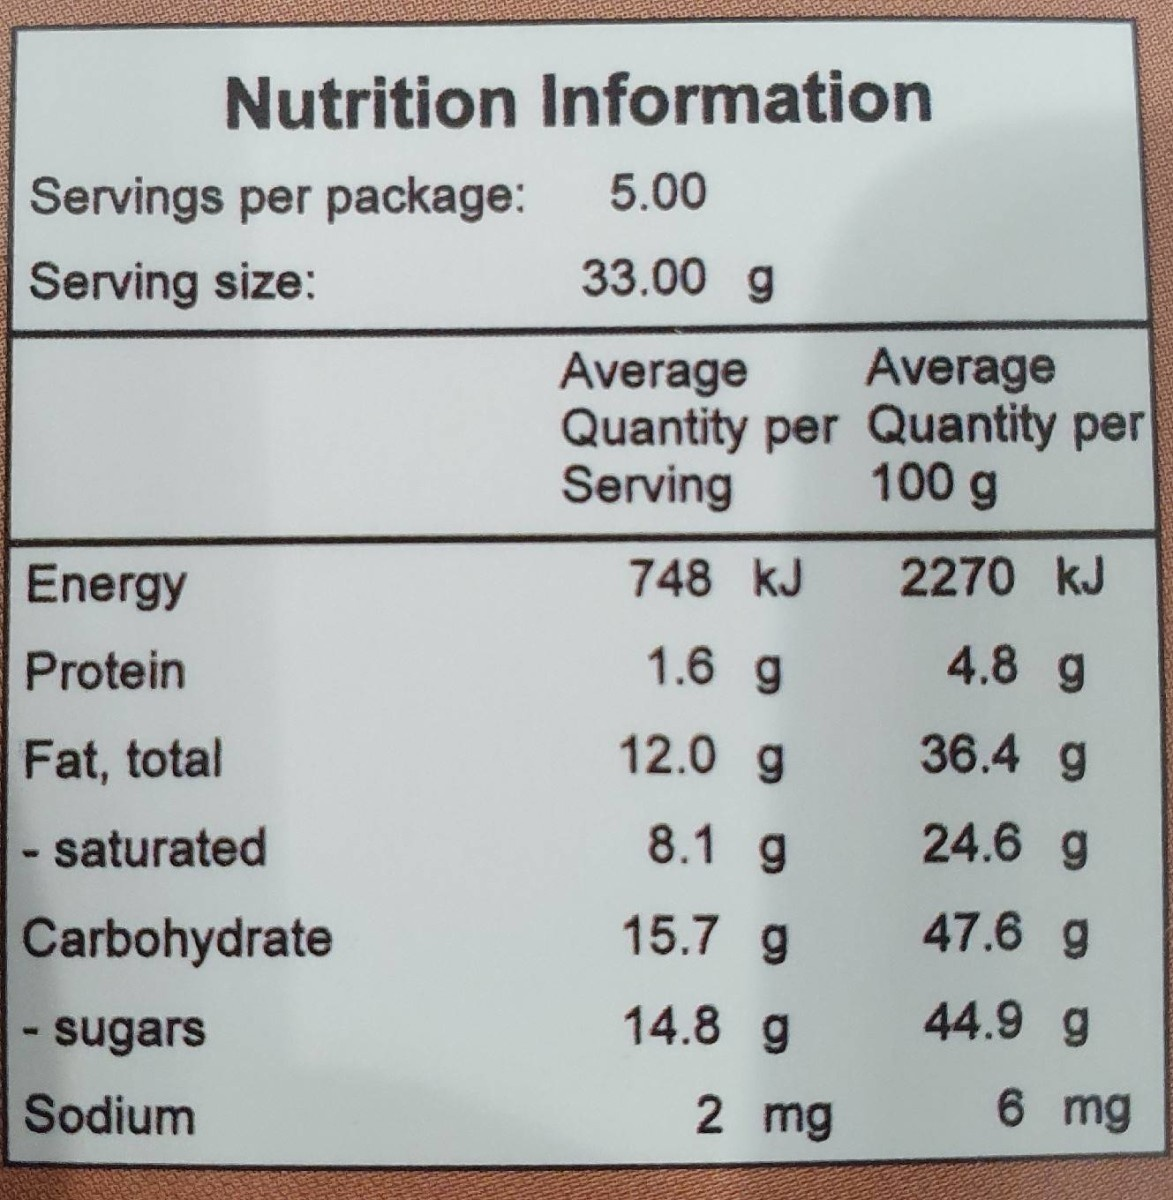column: (486, 345, 848, 1156), (858, 336, 1152, 1160), (18, 549, 367, 1158)
table: (21, 335, 1161, 1154)
